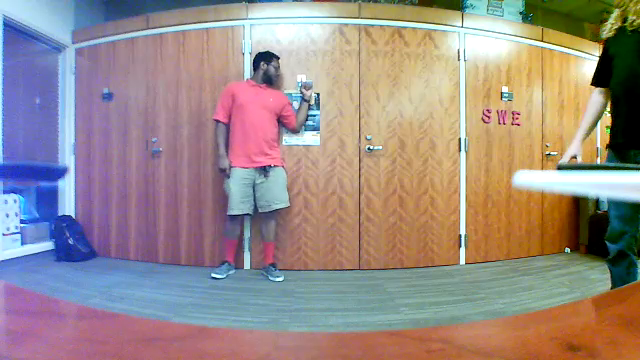up: (297, 73, 316, 106)
